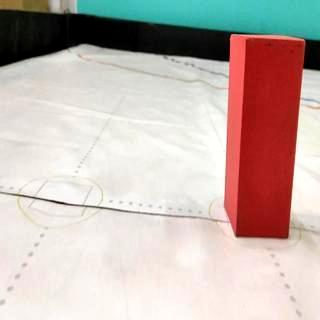redbox: (224, 34, 306, 244)
